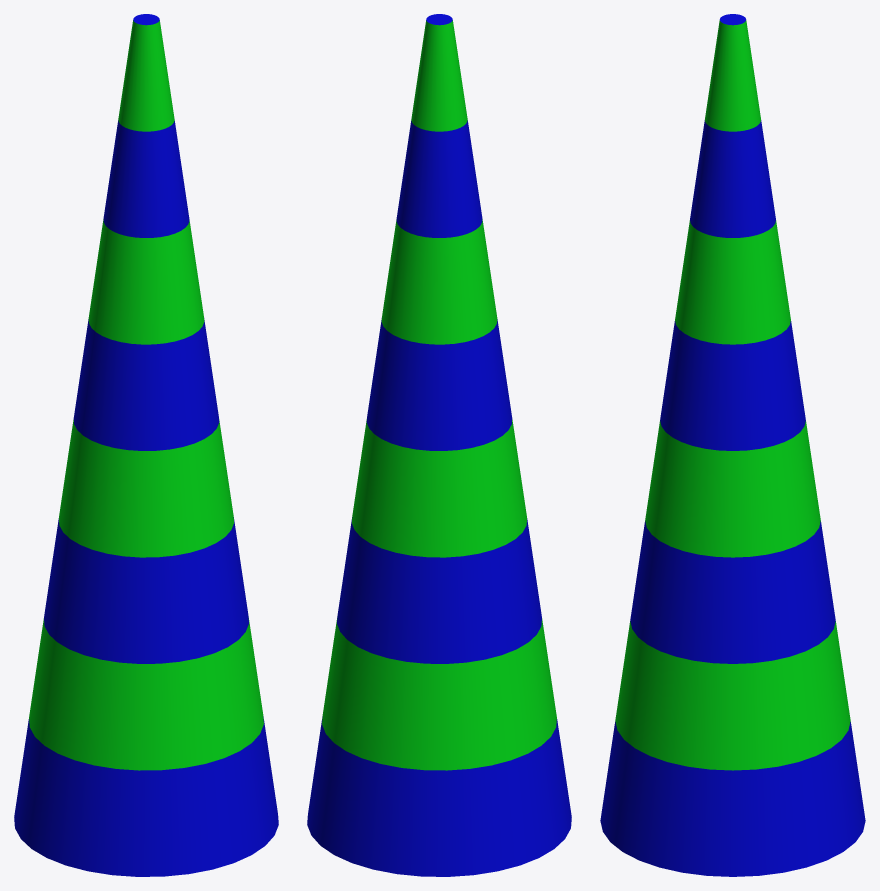
File: FPV_PoleCone.fbx
3 views of the same model, side by side, from view 1: azimuth 30°, elevation 25°; view 2: azimuth 150°, elevation 25°; view 3: azimuth 270°, elevation 25° (orthographic).
Visible parts, largest first — view 1: FPV_PoleCone; view 2: FPV_PoleCone; view 3: FPV_PoleCone.
Boxes of the visible parts, x1=… form: FPV_PoleCone: x1=14, y1=14, x2=278, y2=876; FPV_PoleCone: x1=307, y1=14, x2=571, y2=876; FPV_PoleCone: x1=600, y1=14, x2=865, y2=876.
Size of the model in its own units: 120 by 400 by 120.
